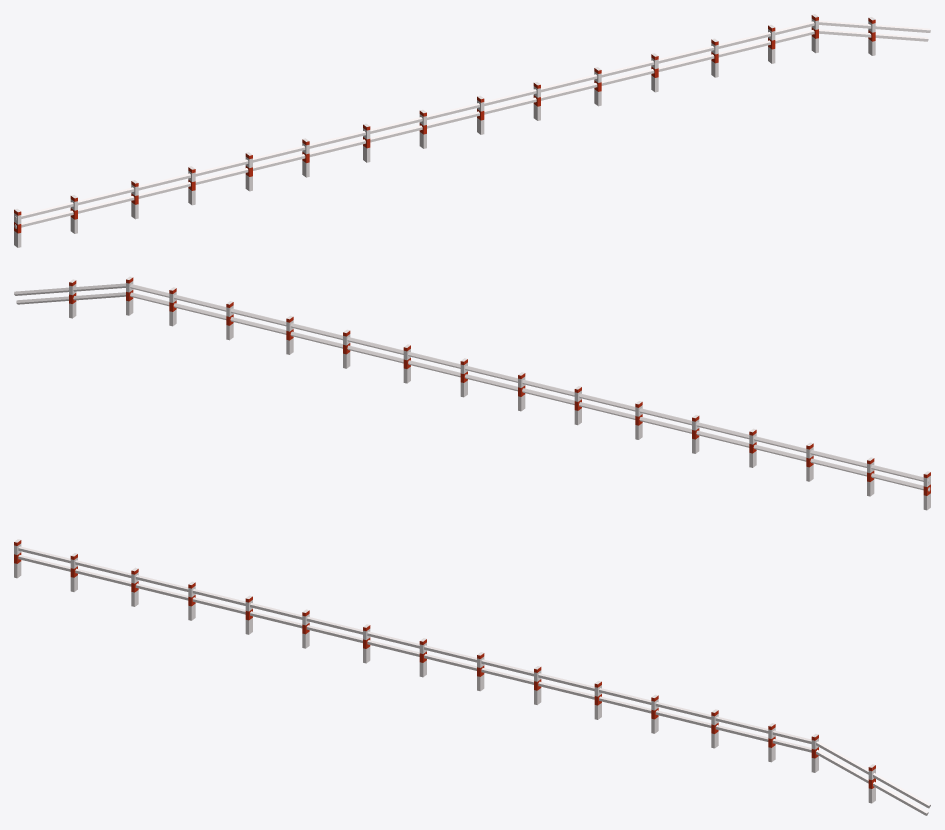
The model's file is barrier.fbx.
3 renders of one model, top to bottom at view 1: azimuth 30°, elevation 25°; view 2: azimuth 150°, elevation 25°; view 3: azimuth 330°, elevation 25°, orthographic.
Parts seen in each view (by area): view 1: SM_RoadBridgeBarrier.001; view 2: SM_RoadBridgeBarrier.001; view 3: SM_RoadBridgeBarrier.001.
Boxes of the visible parts, x1,y1,x2,y2 form: SM_RoadBridgeBarrier.001: (14,14,930,247); SM_RoadBridgeBarrier.001: (14,276,930,510); SM_RoadBridgeBarrier.001: (14,539,930,815).
Size of the model in its own units: 15.6 by 2094 by 116.
Materials: 1 (1 with a texture image).
